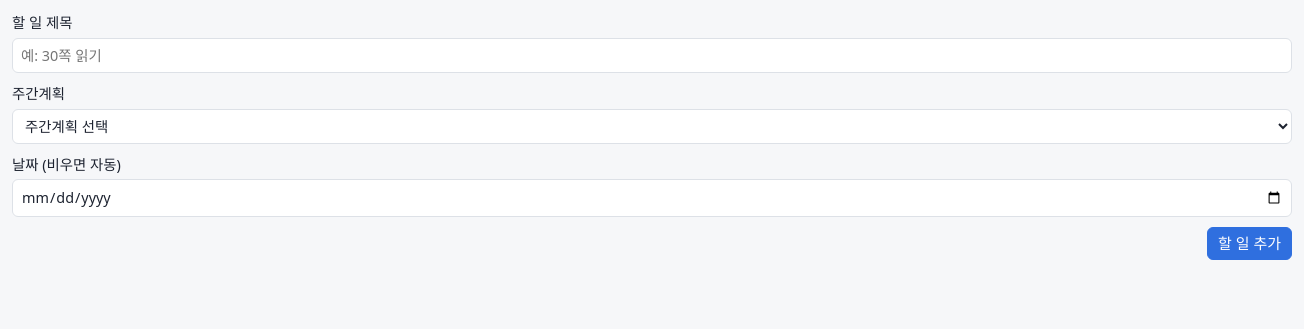
Test: TodoForm › shows required errors for an empty title and a missing weekly plan and does not submit
Click the button "할 일 추가".
click(1250, 243)  # box [1207,227,1292,260]
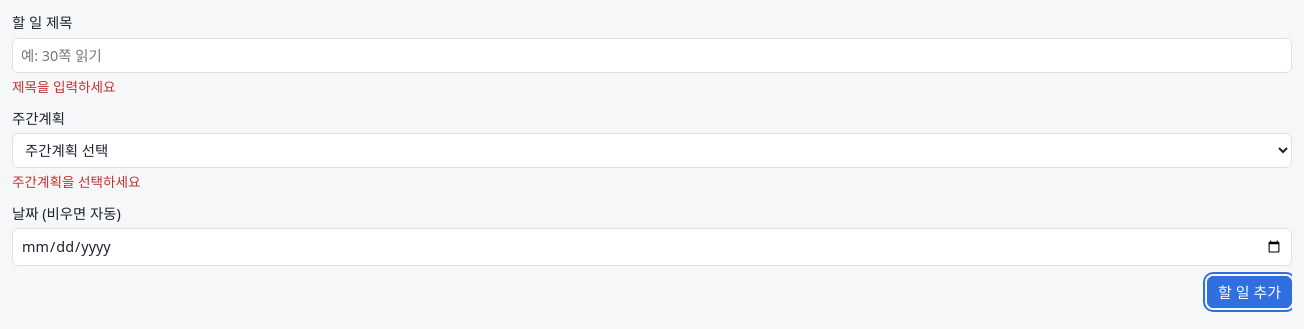
Now the messages read "제목을 입력하세요", "주간계획을 선택하세요", in this order, box [12,77,116,96]; [12,172,141,191]
